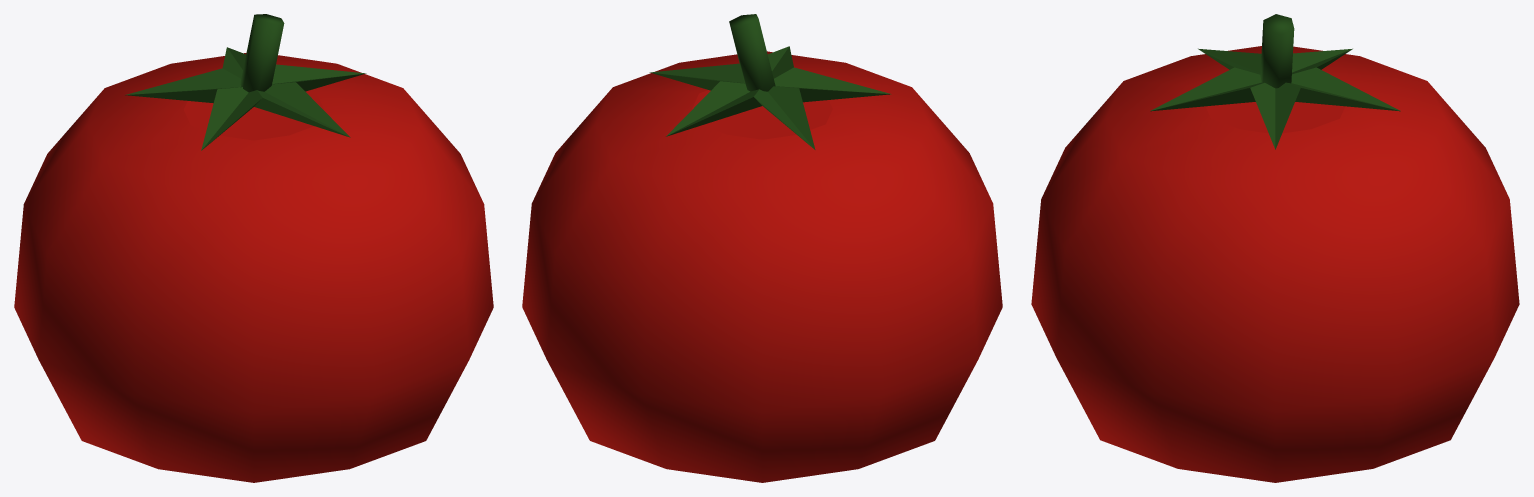
The model's file is tomato.glb.
3 views of the same model, side by side, from view 1: azimuth 30°, elevation 25°; view 2: azimuth 150°, elevation 25°; view 3: azimuth 270°, elevation 25° (orthographic).
Visible parts, largest first — view 1: tomato; view 2: tomato; view 3: tomato.
Boxes of the visible parts, left/top/right/bottom form: tomato: left=14, top=14, right=493, bottom=482; tomato: left=522, top=14, right=1002, bottom=482; tomato: left=1031, top=14, right=1519, bottom=482.
Bounding box in the file's own units: 0.1527 × 0.1422 × 0.1473.
1 material, 1 textured.
